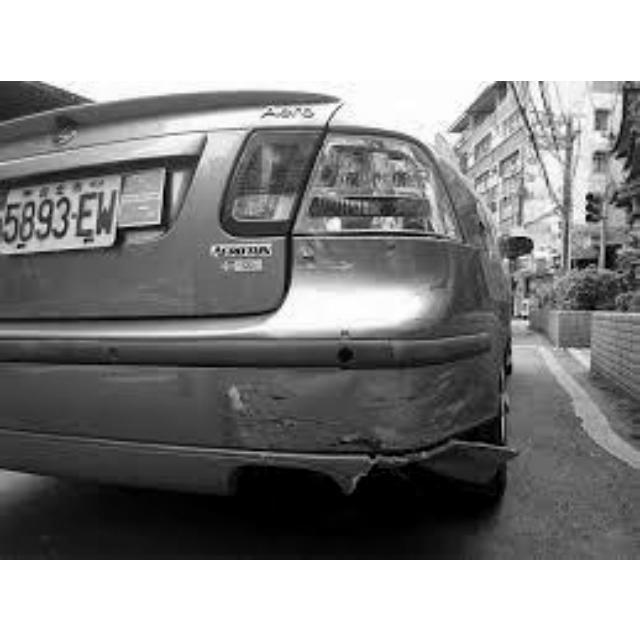rear-bumper-dent: (203, 333, 501, 518)
